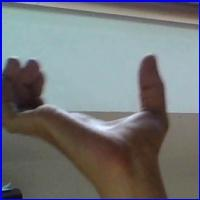B: (4, 43, 180, 185)
